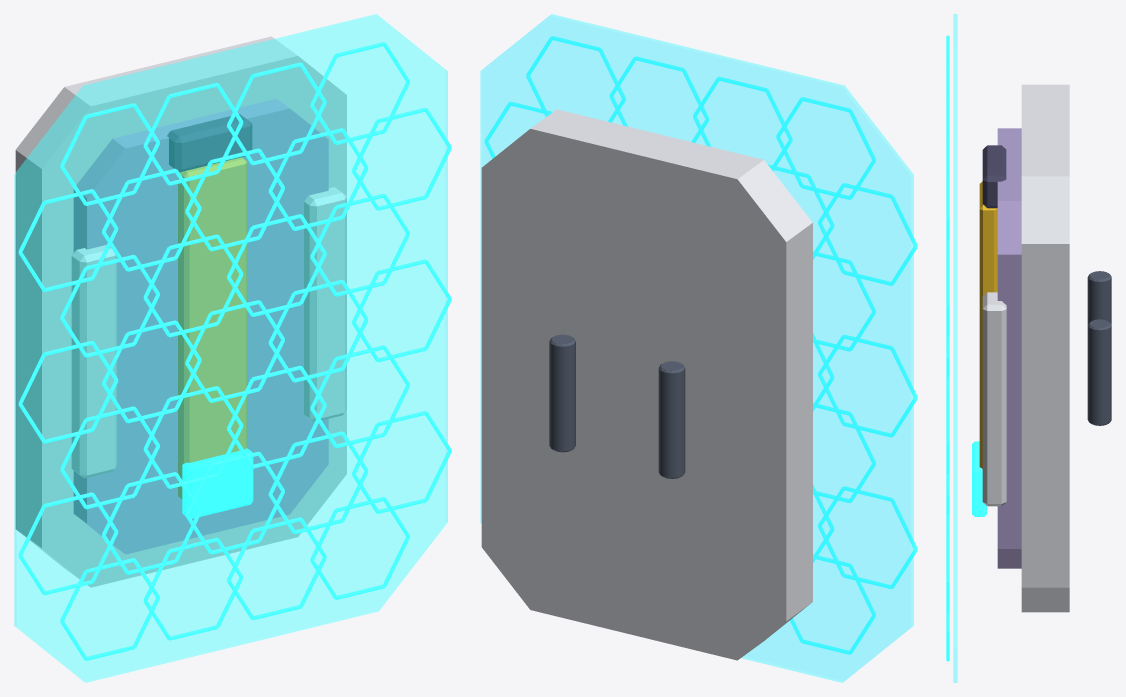
The model's file is Future_HoloShield_v003.fbx.
3 views of the same model, side by side, from view 1: azimuth 30°, elevation 25°; view 2: azimuth 150°, elevation 25°; view 3: azimuth 270°, elevation 25° (orthographic). The views are drawn at different scales.
Visible parts, largest first — view 1: Future_HoloShield__RECEIVER_MESH; view 2: Future_HoloShield__RECEIVER_MESH; view 3: Future_HoloShield__RECEIVER_MESH.
Part boxes in pixels (<box>): Future_HoloShield__RECEIVER_MESH: <box>14,14,451,682</box>; Future_HoloShield__RECEIVER_MESH: <box>480,14,917,682</box>; Future_HoloShield__RECEIVER_MESH: <box>946,14,1111,682</box>.
Bounding box in the file's own units: 1.51 × 1.98 × 0.551.
